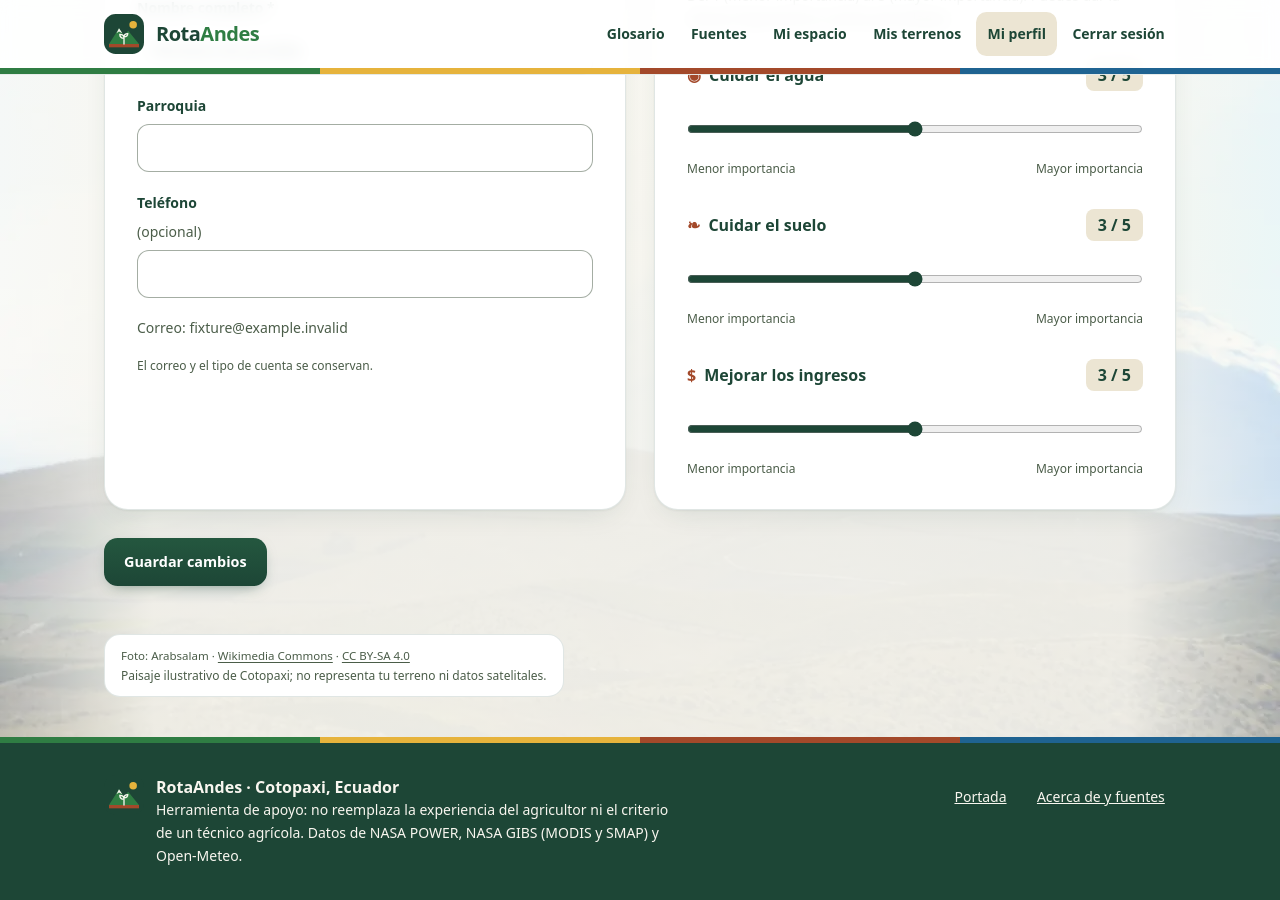
Test: Sesión y pantallas › una actualización tardía no repuebla la caché después de cerrar sesión
(page scrolled)
Click the button "Guardar cambios": [185, 562] box [104,538,267,586]
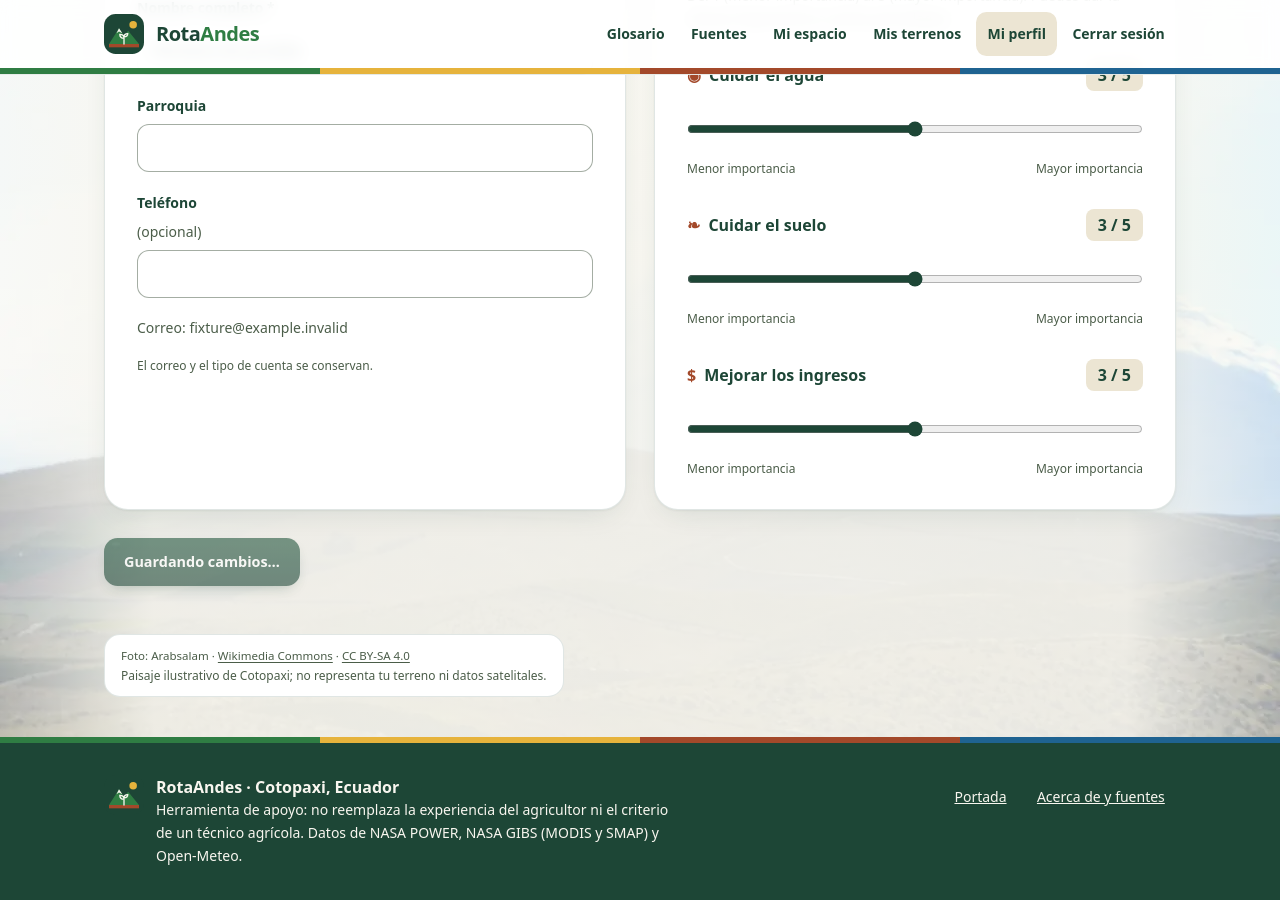
Click the button "Cerrar sesión": [1119, 34] box [1061,12,1176,56]
(page scrolled)
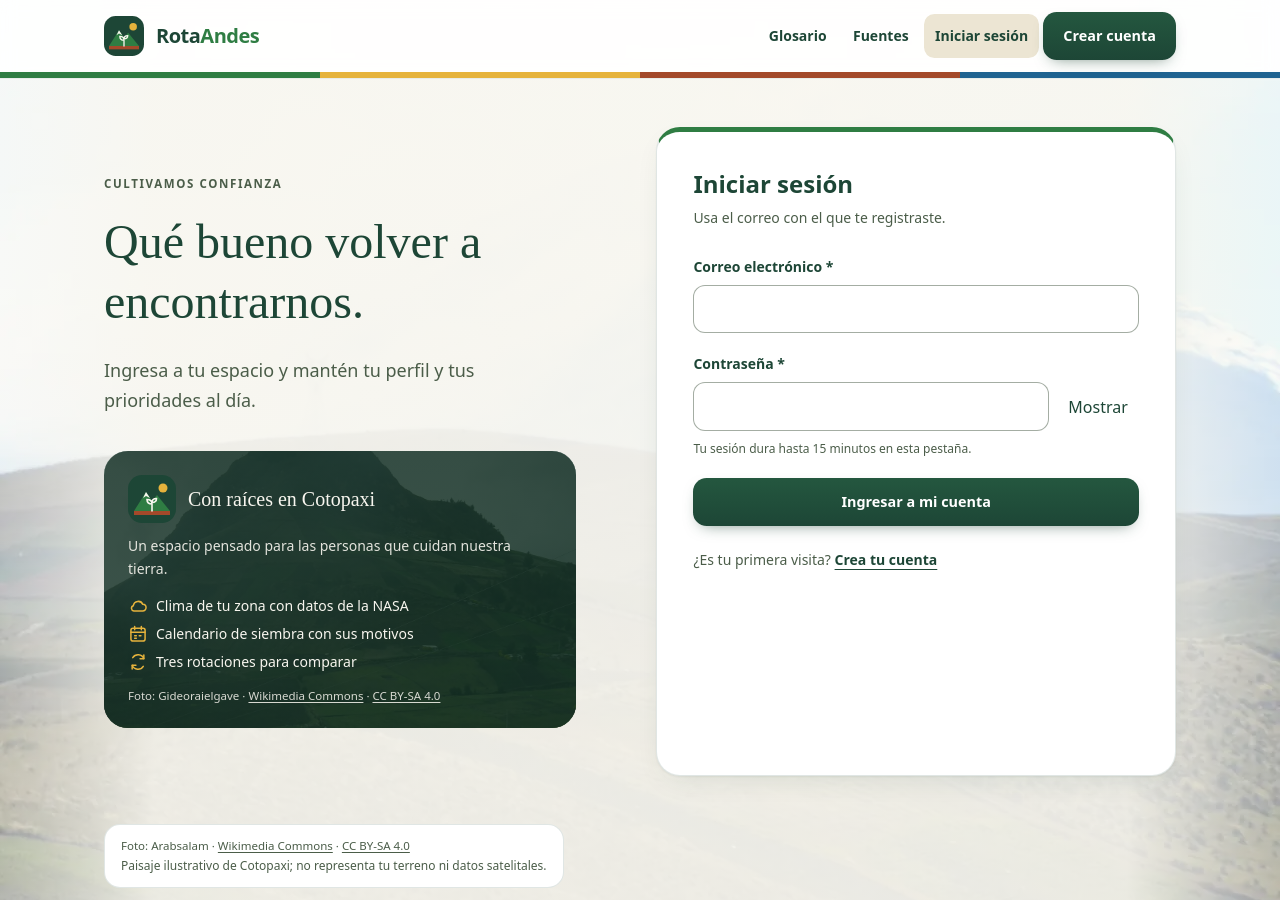
Now the heading "Iniciar sesión" is shown, box [693,167,853,200]
